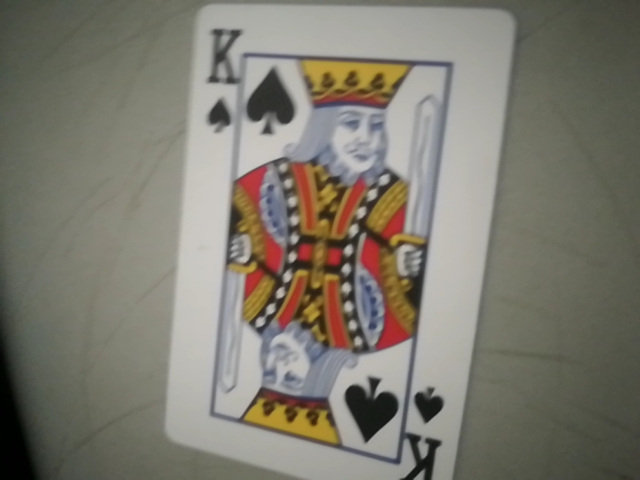ht k: (190, 22, 257, 142)
